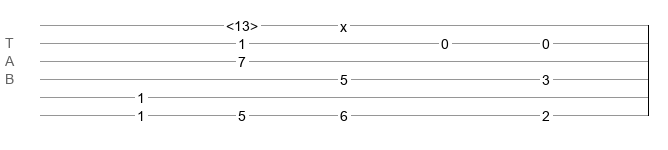0: (441, 36, 449, 46), (542, 36, 550, 46)
1: (137, 90, 145, 100), (137, 108, 145, 118), (238, 36, 246, 46)
2: (542, 108, 550, 118)
3: (542, 72, 550, 82)
5: (238, 108, 246, 118), (340, 72, 348, 82)
6: (340, 108, 348, 118)
7: (238, 54, 246, 64)
harmonic: (226, 18, 258, 28)
x: (340, 19, 347, 27)
